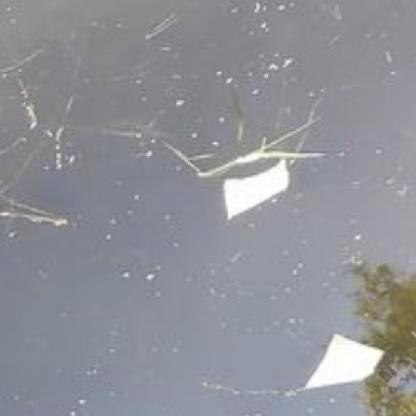Trash: (304, 331, 390, 397), (222, 156, 293, 225)
